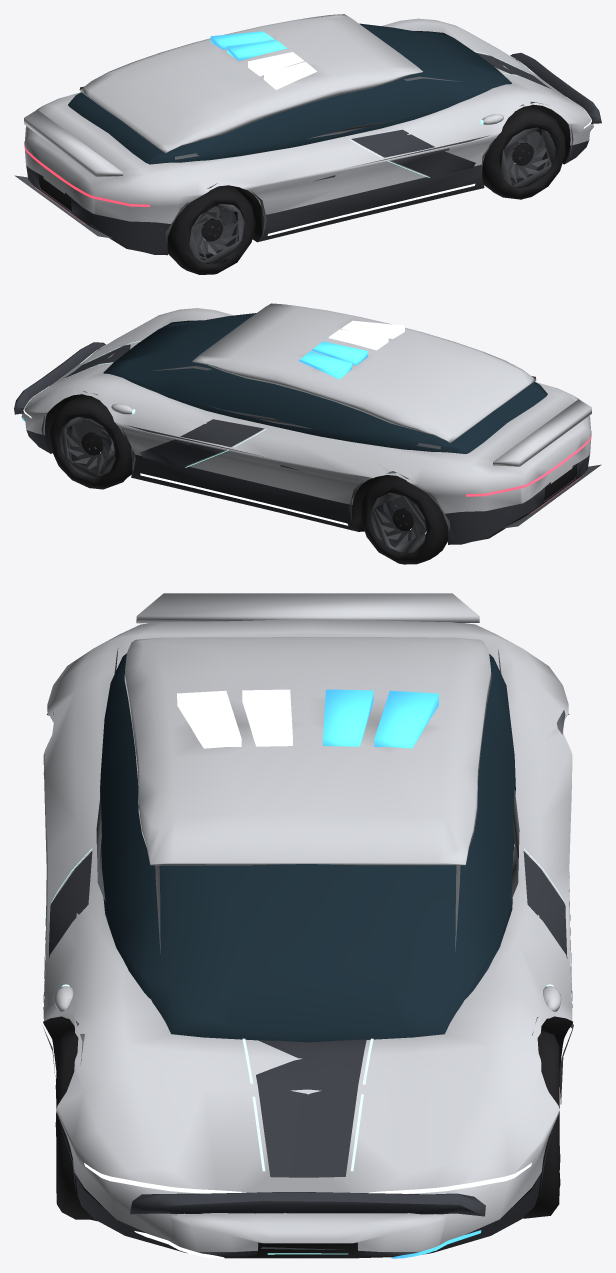
The model's file is cruiser325_lo.glb.
The picture shows the model from 3 angles, top to bottom: view 1: azimuth 30°, elevation 25°; view 2: azimuth 150°, elevation 25°; view 3: azimuth 270°, elevation 25°; orthographic projection. The views are drawn at different scales.
Parts seen in each view (by area): view 1: f162-body.001, f162-glass, f325-livery-lower, f325-livery, f162-wheel-rr-tire, f162-wheel-fr-tire, f162-wheel-fr-trim, f162-wheel-rr-trim, f162-tire-arch, f162-trim, f325-barB, f325-barA (+2 smaller); view 2: f162-body.001, f162-glass, f325-livery-lower, f325-livery, f162-wheel-rl-tire, f162-wheel-fl-tire, f162-wheel-fl-trim, f162-wheel-rl-trim, f162-trim, f162-tire-arch, f325-barA, f325-barB (+2 smaller); view 3: f162-body.001, f162-glass, f325-livery, f325-barA, f325-barB, f162-tire-arch, f162-wheel-fr-tire, f162-wheel-fl-tire, f325-livery-lower, f162-trim, f162-head, f162-accent.
Part boxes in pixels (box(x1,y1,x2,y2)): f162-body.001: box(24, 14, 593, 223); f162-glass: box(68, 23, 511, 164); f325-livery-lower: box(26, 125, 593, 254); f325-livery: box(219, 53, 601, 225); f162-wheel-rr-tire: box(167, 185, 255, 274); f162-wheel-fr-tire: box(482, 105, 565, 199); f162-wheel-fr-trim: box(500, 127, 555, 188); f162-wheel-rr-trim: box(189, 203, 244, 264); f162-tire-arch: box(28, 104, 590, 255); f162-trim: box(14, 76, 573, 240); f325-barB: box(248, 52, 593, 138); f325-barA: box(210, 31, 287, 60); f162-body.001: box(22, 303, 591, 513); f162-glass: box(103, 313, 547, 453); f325-livery-lower: box(21, 416, 589, 544); f325-livery: box(14, 342, 396, 515); f162-wheel-rl-tire: box(361, 475, 448, 564); f162-wheel-fl-tire: box(49, 395, 132, 489); f162-wheel-fl-trim: box(60, 417, 115, 477); f162-wheel-rl-trim: box(370, 493, 426, 553); f162-trim: box(41, 366, 601, 530); f162-tire-arch: box(24, 394, 587, 544); f325-barA: box(21, 341, 367, 428); f325-barB: box(328, 320, 405, 350); f162-body.001: box(43, 593, 572, 1251); f162-glass: box(100, 653, 515, 1042); f325-livery: box(49, 851, 567, 1216); f325-barA: box(323, 689, 481, 1258); f325-barB: box(134, 689, 292, 1258); f162-tire-arch: box(43, 713, 572, 1258); f162-wheel-fr-tire: box(55, 1028, 97, 1221); f162-wheel-fl-tire: box(522, 1030, 560, 1218); f325-livery-lower: box(74, 1173, 541, 1256); f162-trim: box(43, 648, 573, 1249); f162-head: box(84, 1162, 531, 1193); f162-accent: box(45, 848, 570, 1254).
Size of the model in its own units: 4.31 by 1.21 by 1.91.
